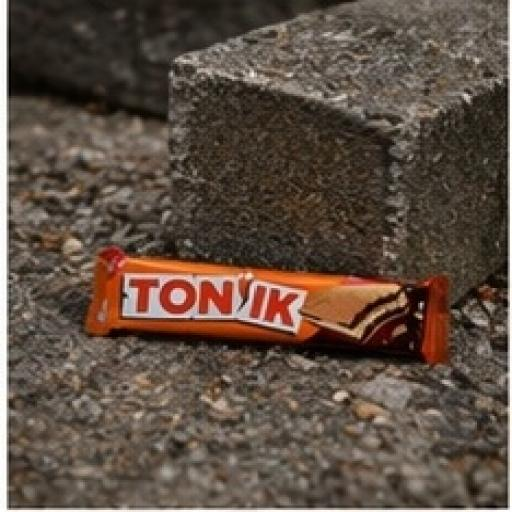tonik: (43, 205, 476, 430)
